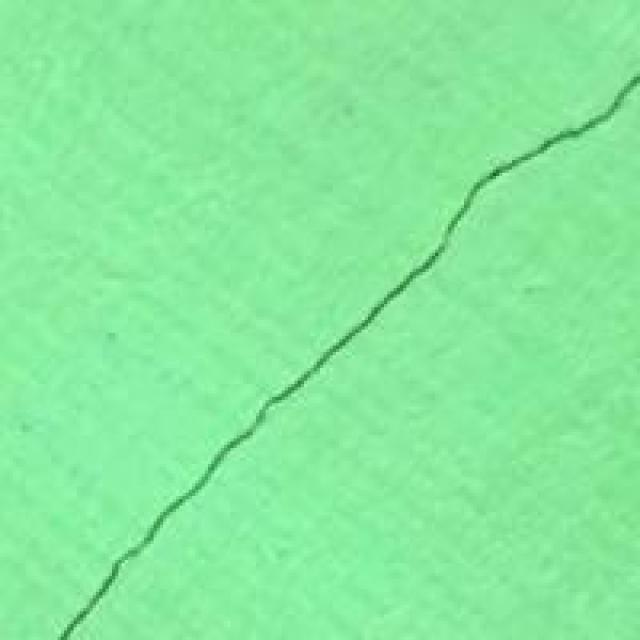Crack: (45, 51, 637, 637)
